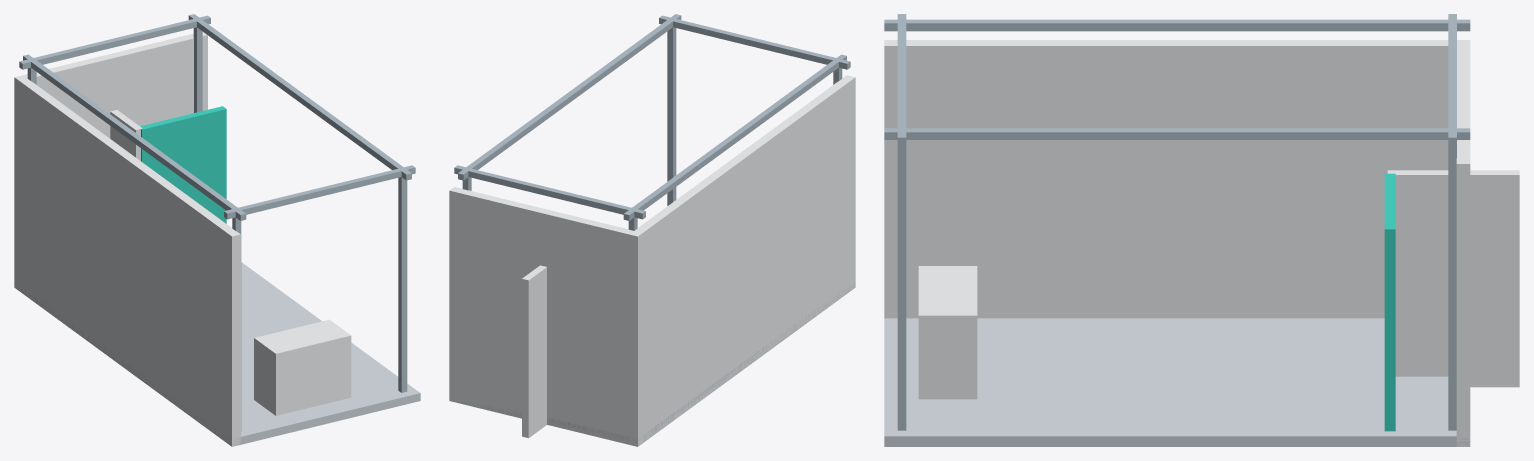
3 renders of one model, left to right at view 1: azimuth 30°, elevation 25°; view 2: azimuth 150°, elevation 25°; view 3: azimuth 270°, elevation 25°, orthographic. The views are drawn at different scales.
Visible parts, largest first — view 1: Exhibition Booth Concept; view 2: Exhibition Booth Concept; view 3: Exhibition Booth Concept.
Part boxes in pixels (box(x1,y1,x2,y2)): Exhibition Booth Concept: box(14, 14, 420, 446); Exhibition Booth Concept: box(449, 14, 855, 446); Exhibition Booth Concept: box(884, 14, 1519, 446).
Size of the model in its own units: 3 by 3.49 by 6.51.
